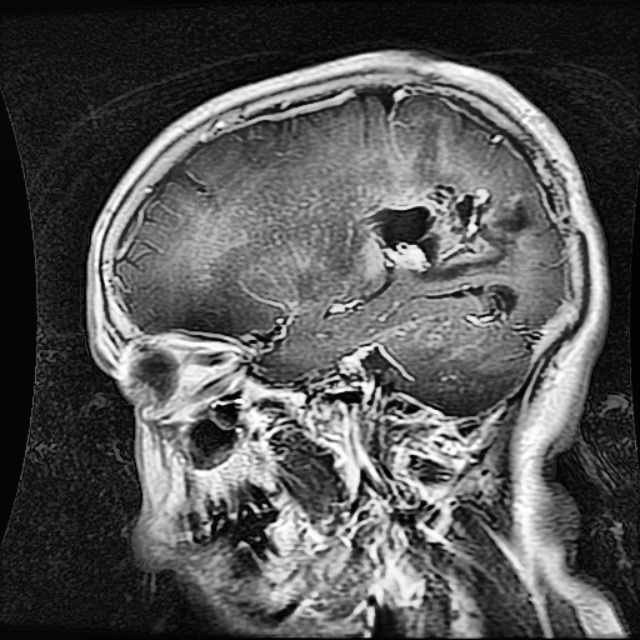Meningioma: (368, 182, 532, 315)
